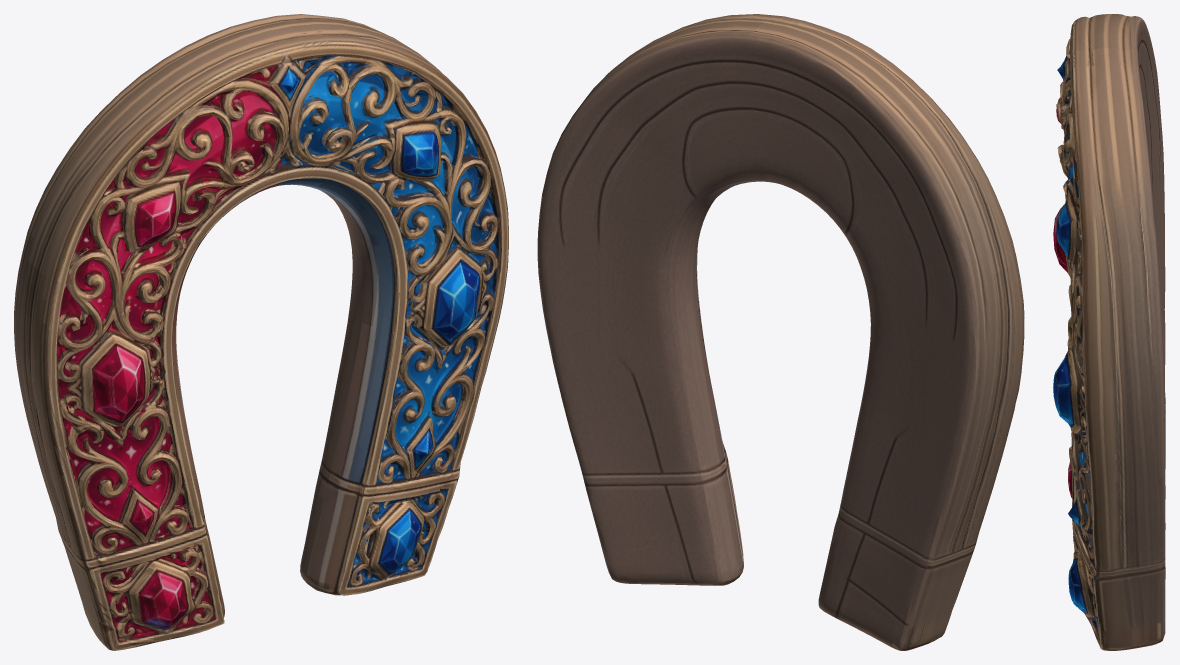
The model's file is magnetic.glb.
3 renders of one model, left to right at view 1: azimuth 30°, elevation 25°; view 2: azimuth 150°, elevation 25°; view 3: azimuth 270°, elevation 25°, orthographic. The views are drawn at different scales.
Visible parts, largest first — view 1: Mesh0; view 2: Mesh0; view 3: Mesh0.
Boxes of the visible parts, x1,y1,x2,y2 form: Mesh0: (14,14,508,650); Mesh0: (537,14,1024,650); Mesh0: (1053,14,1165,650).
Size of the model in its own units: 1.59 by 1.9 by 0.3557.
Materials: 1 (1 with a texture image).
